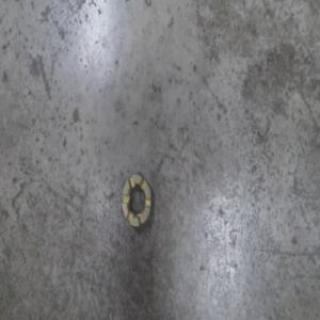Nuttrack_idkeyframe: (120, 170, 154, 231)
